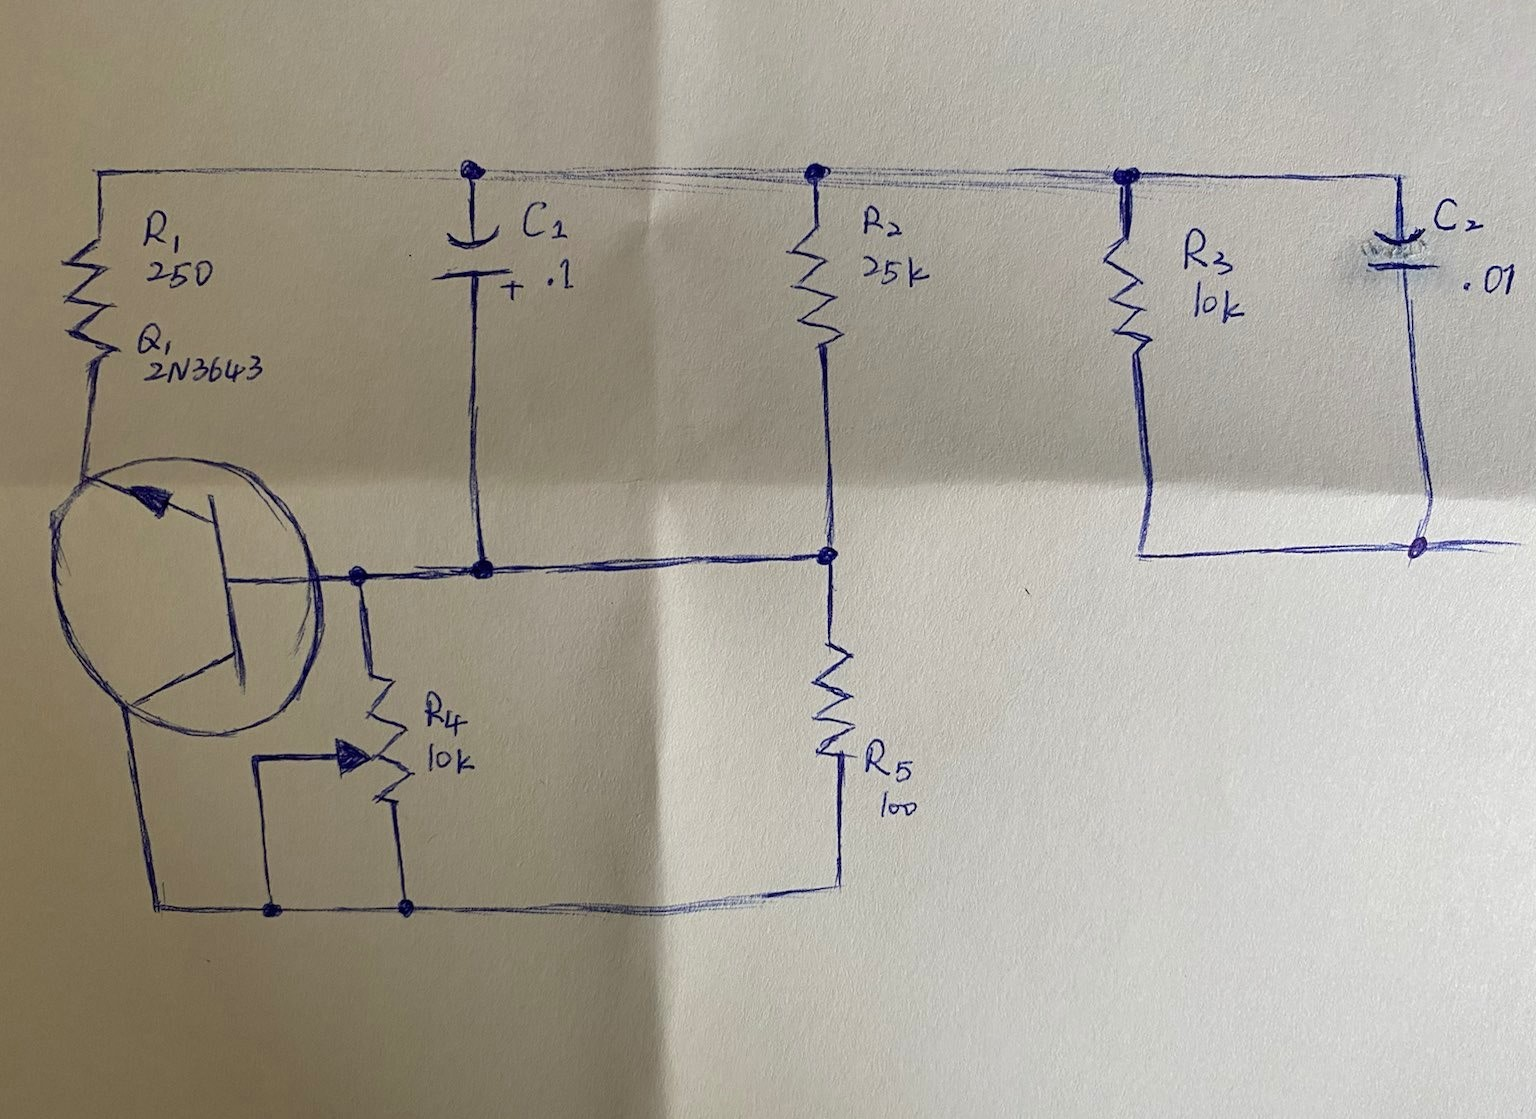capacitor.polarized: (429, 223, 528, 303)
capacitor.unpolarized: (1365, 222, 1438, 278)
junction: (457, 545, 512, 596), (445, 146, 498, 193), (1101, 149, 1148, 203), (379, 884, 427, 932), (795, 149, 843, 196), (818, 864, 865, 907), (250, 891, 297, 933), (1396, 525, 1439, 569), (805, 533, 849, 575), (136, 889, 179, 927), (1123, 534, 1160, 579), (1377, 155, 1418, 194), (337, 555, 374, 594), (236, 744, 271, 779), (85, 157, 116, 190)
resistor: (58, 234, 125, 367), (786, 223, 847, 361), (1094, 233, 1157, 365), (812, 637, 862, 766)
resistor.adjustable: (329, 666, 415, 811)
terminal: (1481, 526, 1536, 562)
text: (143, 356, 266, 389), (1181, 220, 1238, 278), (1182, 282, 1249, 332), (857, 249, 931, 293), (863, 734, 918, 785), (145, 256, 219, 291), (1458, 262, 1525, 298), (1432, 194, 1489, 235), (421, 691, 470, 736), (425, 741, 477, 780), (874, 789, 927, 828), (521, 199, 569, 242), (138, 208, 182, 252), (857, 200, 905, 240), (129, 319, 175, 356), (545, 256, 586, 296)
transistor: (41, 455, 327, 737)
